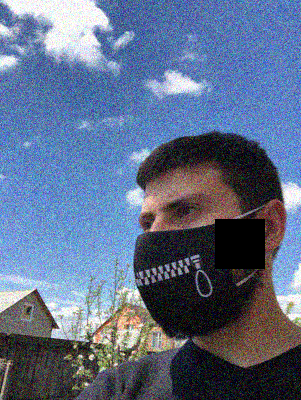with_mask: (133, 189, 243, 341)
